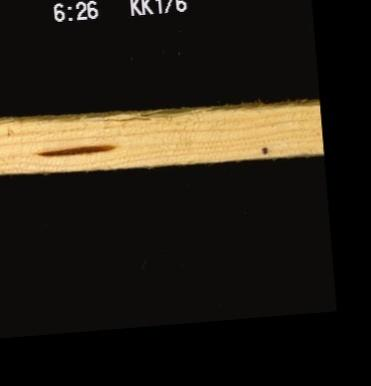split: (86, 113, 153, 123)
